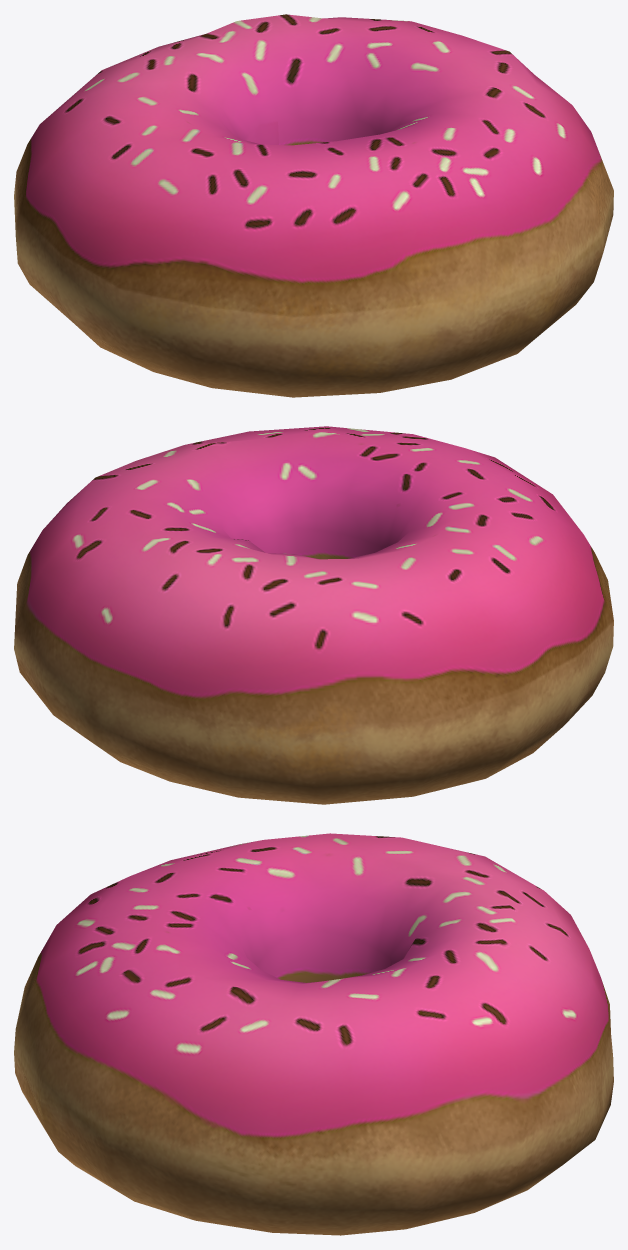
File: Donut.fbx
3 views of the same model, one above another, from view 1: azimuth 30°, elevation 25°; view 2: azimuth 150°, elevation 25°; view 3: azimuth 270°, elevation 25° (orthographic). The views are drawn at different scales.
Parts seen in each view (by area): view 1: donut001; view 2: donut001; view 3: donut001.
Part boxes in pixels (x1,y1,x2,y2): donut001: [14, 14, 613, 397]; donut001: [14, 426, 613, 804]; donut001: [14, 833, 613, 1235].
Bounding box in the file's own units: 1 × 0.3951 × 0.9599.
